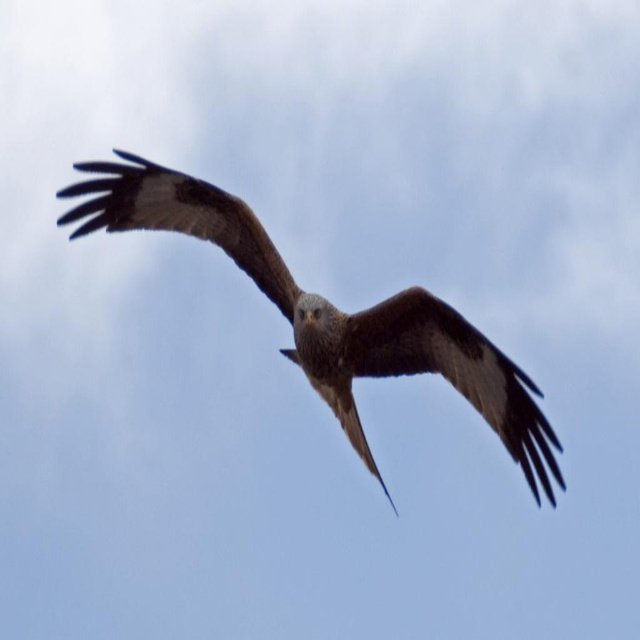Eagle: (48, 144, 574, 536)
